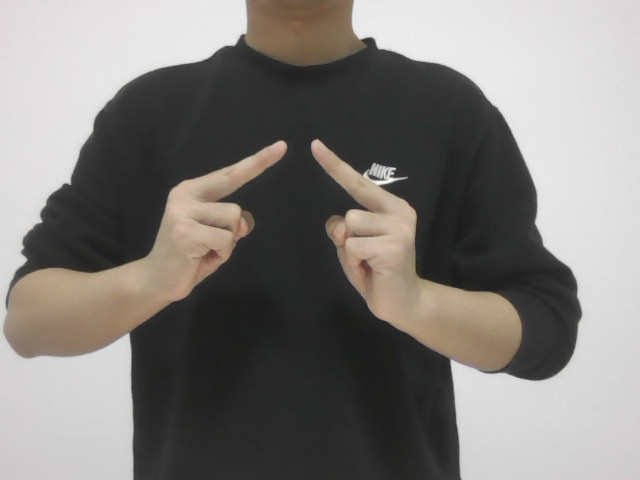know: (149, 137, 433, 342)
